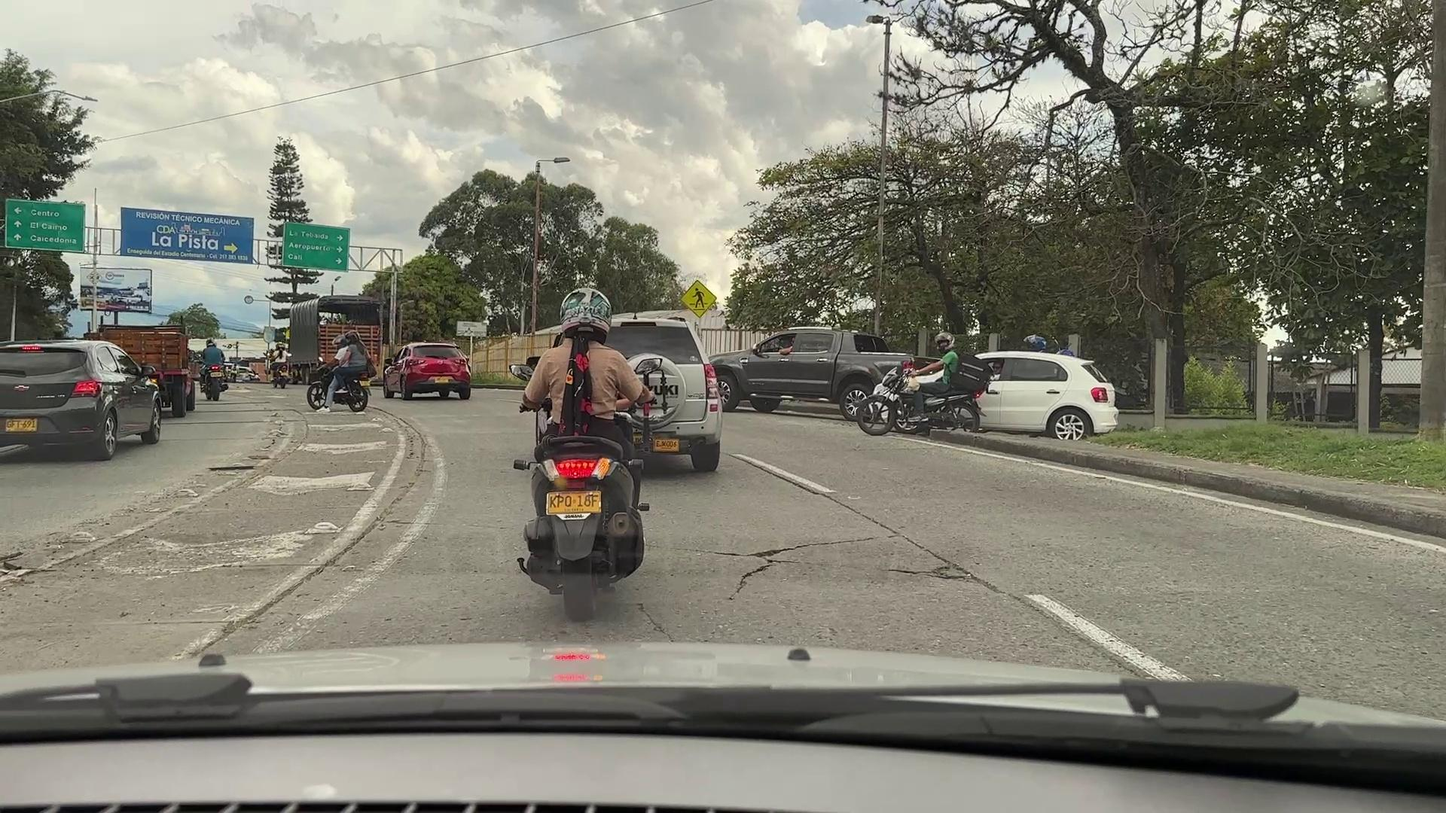bache: (896, 566, 992, 588)
grieta: (736, 549, 793, 591)
